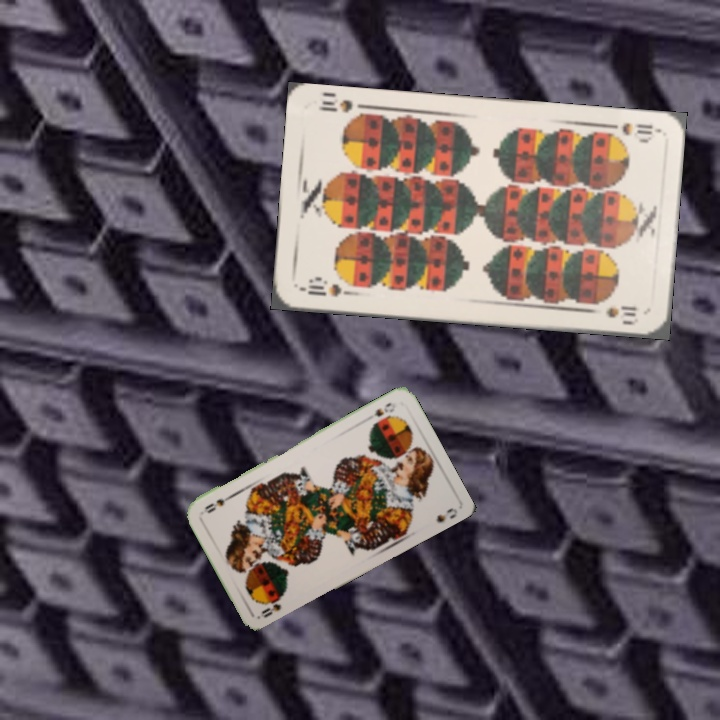S10: (600, 119, 659, 144), (297, 276, 356, 300)
SO: (257, 591, 287, 620), (369, 398, 398, 419)
